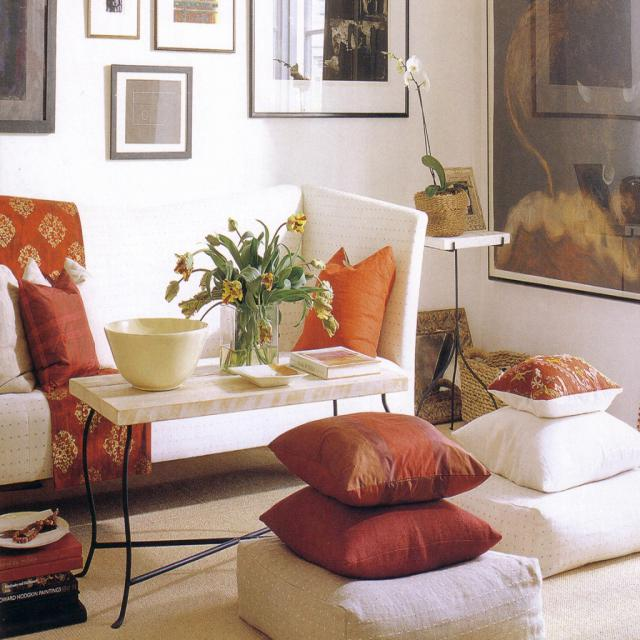basket crop: (459, 348, 531, 422)
blanket: (0, 197, 152, 488)
book case: (291, 344, 378, 378)
bowl -X: (104, 319, 206, 388), (228, 362, 306, 388)
coutch: (6, 182, 430, 481)
floor -X: (2, 448, 304, 639), (544, 554, 640, 639)
flowers in pot: (162, 211, 337, 363)
necklace: (14, 512, 59, 542)
painting crop: (1, 1, 58, 133)
picture crop: (486, 0, 638, 303), (248, 1, 409, 118), (110, 64, 192, 157), (416, 305, 473, 418), (444, 168, 489, 232)
pillow occluded: (236, 538, 546, 639), (261, 485, 500, 578), (449, 469, 639, 575), (269, 410, 489, 500), (452, 408, 638, 488), (290, 246, 396, 358), (18, 265, 98, 387), (488, 354, 621, 415), (68, 258, 116, 365), (1, 267, 26, 390)
plate food: (1, 509, 66, 548)
potted flower: (384, 50, 469, 234)
stack of books: (2, 548, 86, 635)
table -X: (68, 376, 404, 625), (418, 233, 509, 426)
wall clock: (1, 0, 640, 429)
